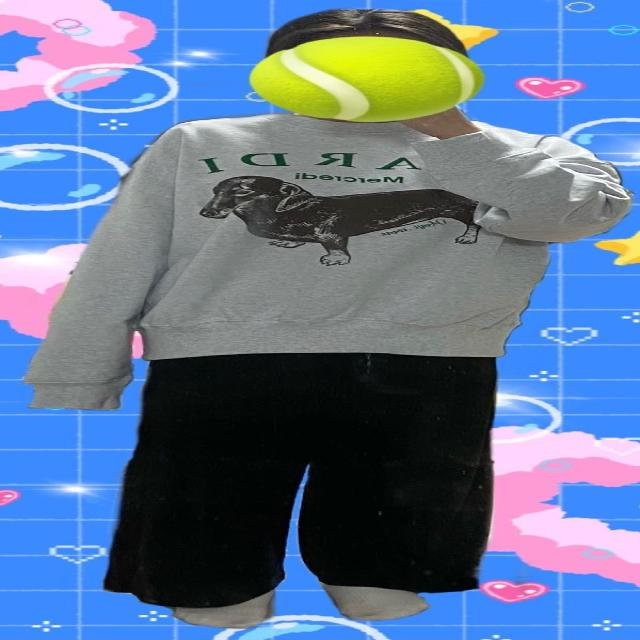mtm: (13, 115, 640, 420)
slacks: (104, 347, 502, 606)
